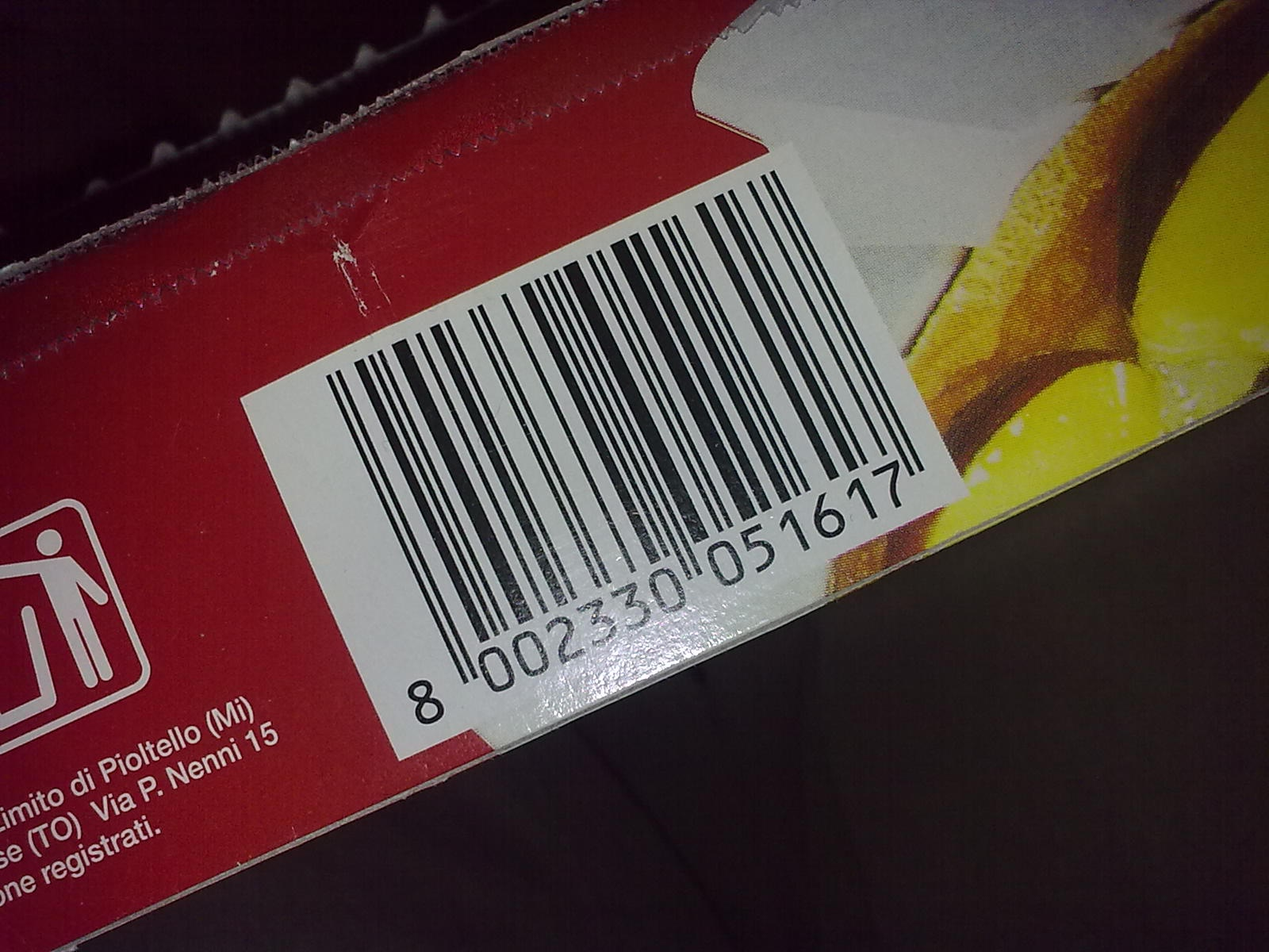Barkod: (231, 140, 973, 757)
